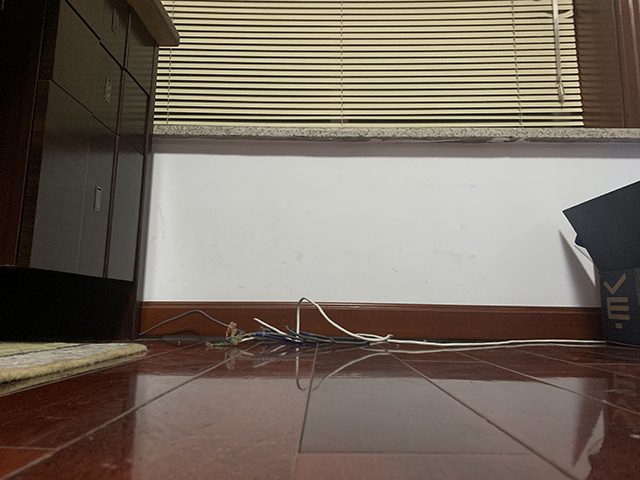cabinet: (1, 1, 180, 342)
carpet: (1, 342, 149, 385)
wire: (140, 296, 607, 350)
